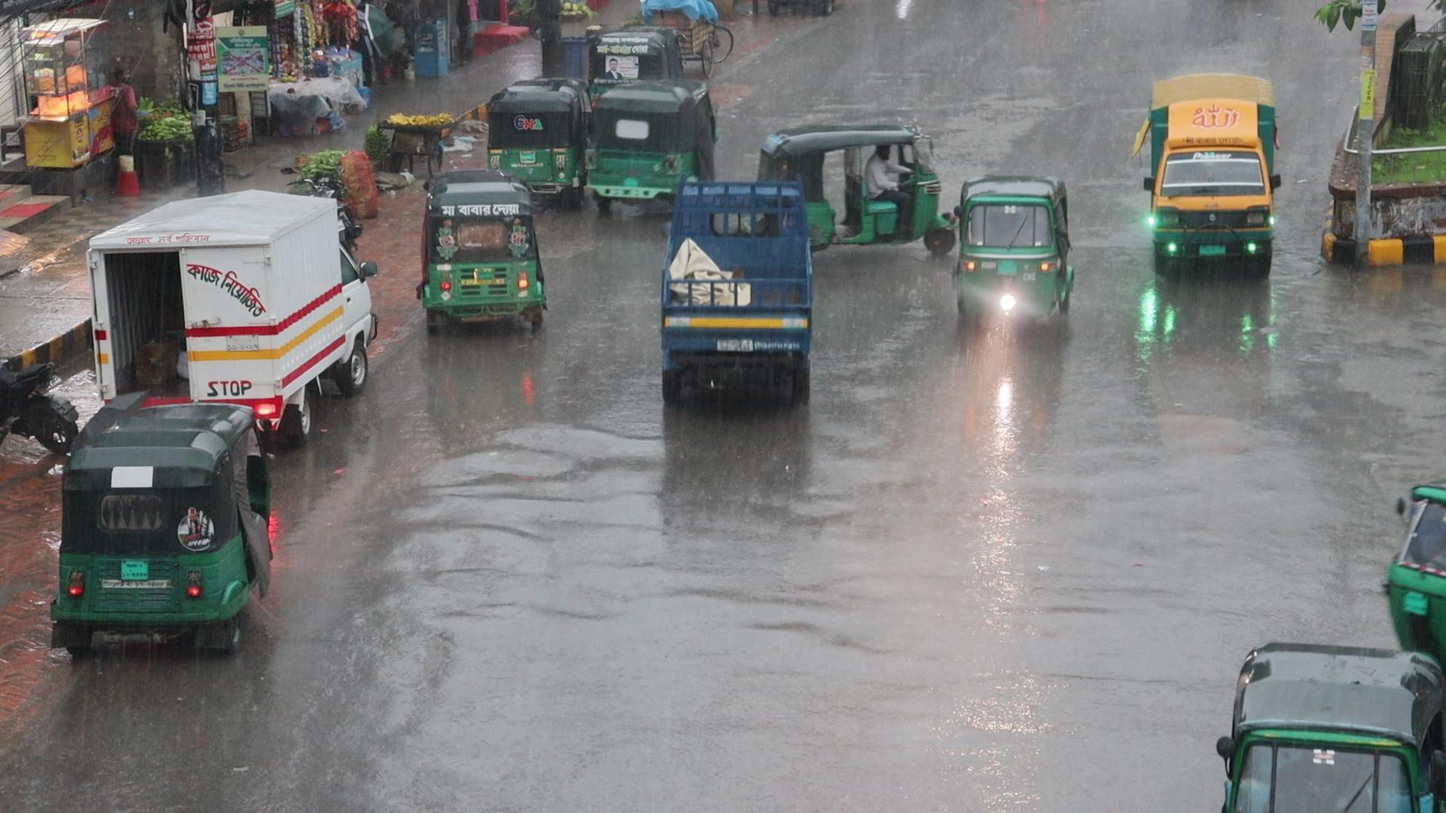Truck: (658, 172, 817, 410), (1144, 69, 1281, 280)
